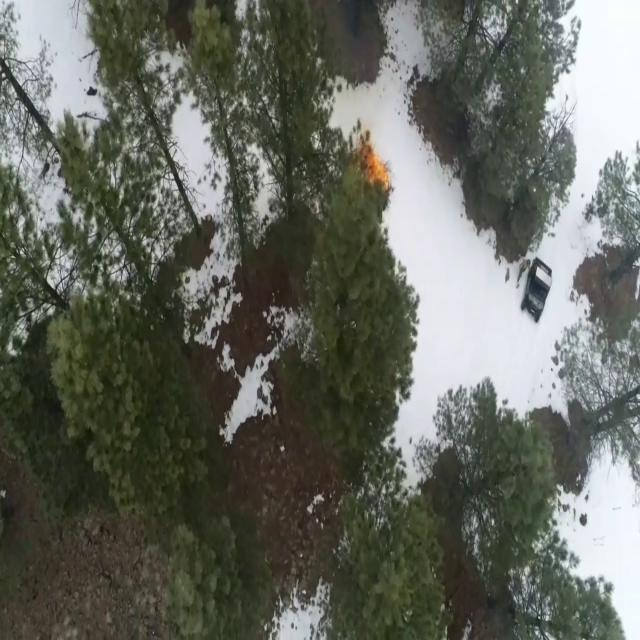fire: (362, 143, 391, 186)
